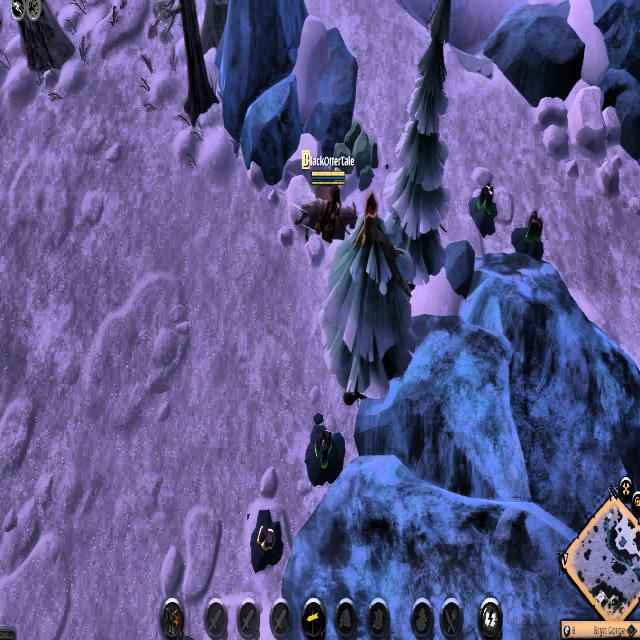copperore: (248, 506, 286, 562)
tinore: (306, 421, 344, 484), (510, 205, 548, 264), (470, 180, 500, 236)
